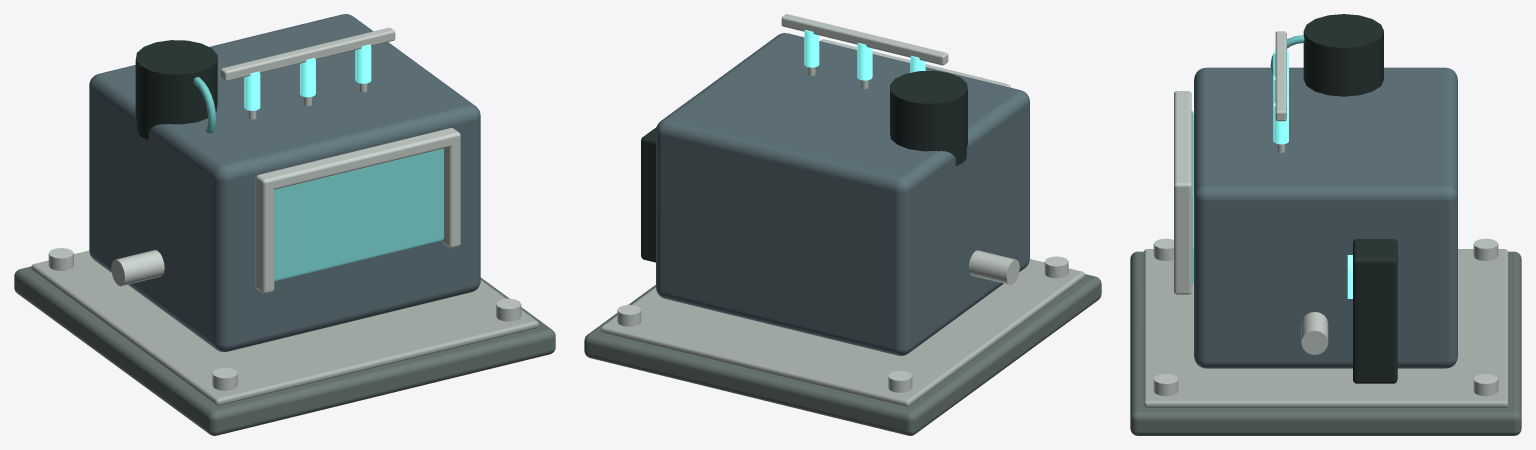
Rendered from wash_deburr_detail.glb.
3 views of the same model, side by side, from view 1: azimuth 30°, elevation 25°; view 2: azimuth 150°, elevation 25°; view 3: azimuth 270°, elevation 25° (orthographic). The views are drawn at different scales.
Visible parts, largest first — view 1: wash_body, base_deck, base_lower, wash_front_window, wash_motor, wash_door_frame_top, spray_manifold, wash_door_frame_left, wash_door_frame_right, wash_roller_-0.42, spray_nozzle_-0.28, spray_nozzle_0.28 (+4 smaller); view 2: wash_body, base_deck, base_lower, wash_motor, spray_manifold, wash_control, wash_roller_-0.42, wash_door_frame_top, spray_nozzle_0, spray_nozzle_0.28, anchor_-1_1, anchor_1_-1 (+1 smaller); view 3: wash_body, base_deck, base_lower, wash_control, wash_motor, wash_door_frame_top, wash_door_frame_right, spray_manifold, wash_roller_0.42, anchor_-1_-1, anchor_1_-1, anchor_1_1 (+3 smaller).
Boxes of the visible parts, box(x1,y1,x2,y2) form: wash_body: box(89, 14, 480, 352); base_deck: box(31, 250, 538, 405); base_lower: box(14, 266, 555, 435); wash_front_window: box(274, 148, 443, 281); wash_motor: box(135, 40, 217, 139); wash_door_frame_top: box(255, 128, 460, 189); spray_manifold: box(220, 27, 395, 81); wash_door_frame_left: box(255, 185, 274, 293); wash_door_frame_right: box(442, 142, 460, 248); wash_roller_-0.42: box(111, 250, 164, 286); spray_nozzle_-0.28: box(244, 71, 260, 110); spray_nozzle_0.28: box(355, 44, 371, 83); wash_body: box(656, 33, 1029, 355); base_deck: box(600, 259, 1085, 407); base_lower: box(584, 274, 1101, 435); wash_motor: box(890, 70, 967, 165); spray_manifold: box(781, 14, 948, 65); wash_control: box(641, 127, 656, 262); wash_roller_-0.42: box(969, 250, 1019, 284); wash_door_frame_top: box(820, 39, 1010, 87); spray_nozzle_0: box(857, 43, 872, 80); spray_nozzle_0.28: box(804, 30, 819, 67); anchor_-1_1: box(1044, 256, 1068, 278); anchor_1_-1: box(617, 304, 641, 326); wash_body: box(1194, 67, 1457, 368); base_deck: box(1143, 249, 1508, 407); base_lower: box(1130, 251, 1521, 435); wash_control: box(1353, 239, 1397, 383); wash_motor: box(1303, 14, 1383, 96); wash_door_frame_top: box(1174, 91, 1191, 193); wash_door_frame_right: box(1174, 192, 1191, 294); spray_manifold: box(1275, 31, 1286, 121); wash_roller_0.42: box(1301, 312, 1328, 354); anchor_-1_-1: box(1473, 238, 1498, 260); anchor_1_-1: box(1473, 373, 1498, 396); anchor_1_1: box(1153, 373, 1178, 396).
Bounding box in the file's own units: 1.77 × 1.4 × 1.75.
